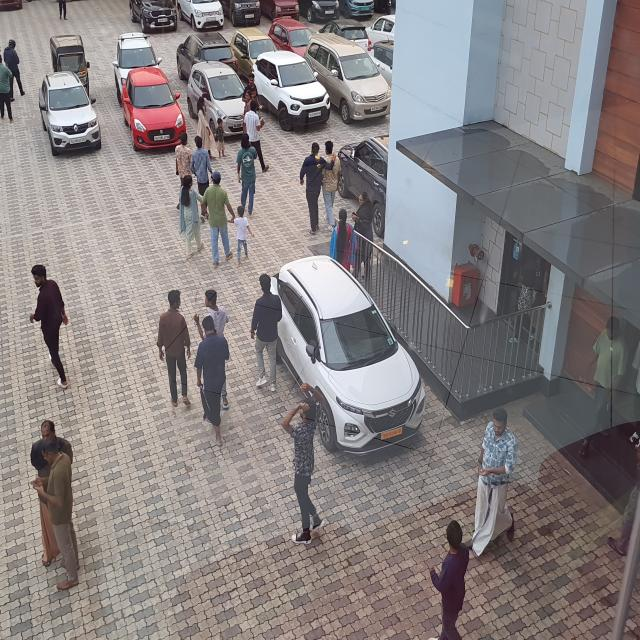humans: (30, 437, 85, 598), (280, 380, 327, 545), (26, 418, 73, 569), (472, 406, 516, 555), (28, 263, 78, 392), (429, 518, 472, 640), (192, 286, 232, 414), (155, 286, 193, 408), (249, 272, 284, 394), (197, 316, 230, 443), (200, 170, 234, 269), (298, 142, 324, 237), (350, 190, 376, 282), (177, 174, 204, 260), (242, 100, 270, 172), (329, 204, 356, 274), (236, 131, 257, 219), (322, 140, 341, 236), (191, 134, 210, 222), (195, 93, 218, 160), (5, 38, 28, 102), (234, 203, 254, 268), (0, 52, 16, 126), (242, 72, 264, 112), (174, 132, 192, 180), (214, 117, 228, 159), (242, 90, 252, 134)
